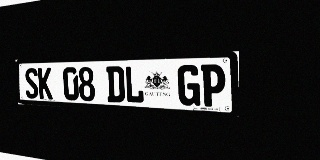0: (62, 67, 79, 101)
8: (78, 67, 95, 101)
D: (106, 66, 125, 103)
G: (177, 65, 200, 106)
K: (38, 67, 53, 99)
L: (124, 66, 144, 104)
P: (201, 64, 225, 107)
S: (24, 68, 39, 99)
